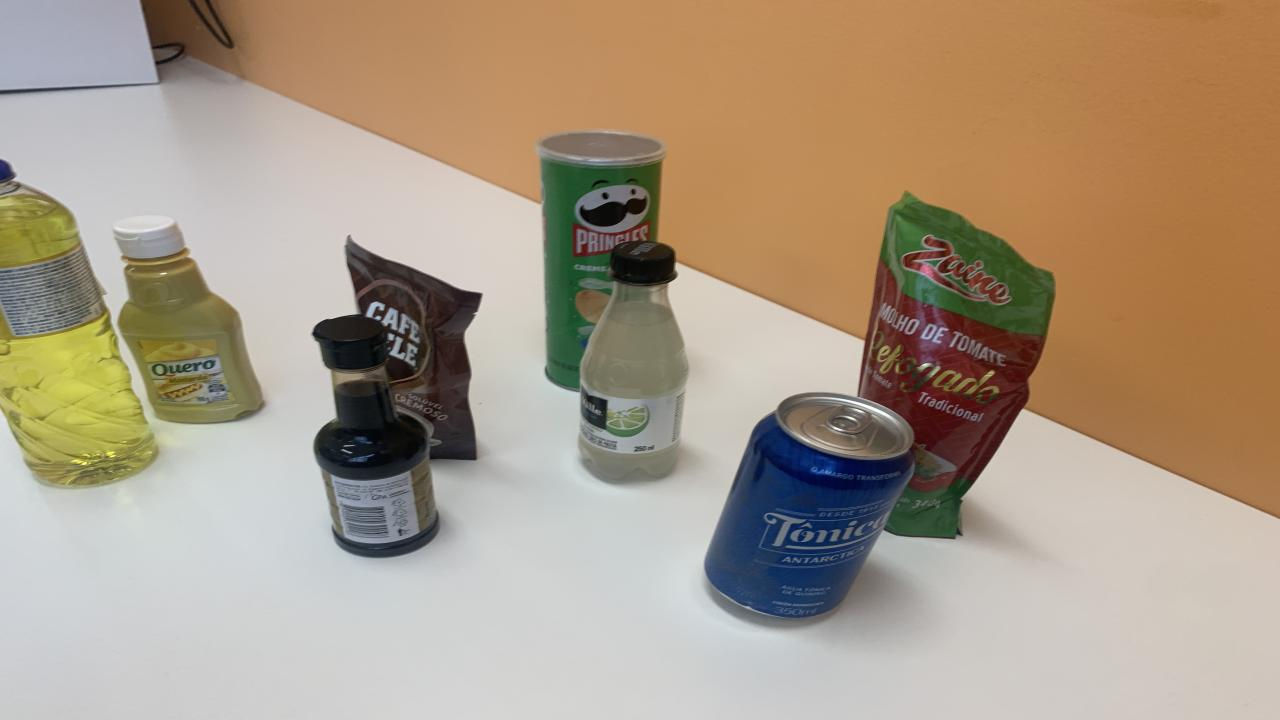Coffee-Pantry_Items: (345, 236, 482, 459)
Detergent-Cleanup_Items: (0, 161, 158, 486)
English_Sauce-Pantry_Items: (312, 315, 440, 557)
Mustard-Pantry_Items: (112, 216, 262, 424)
Pringles-Snacks: (535, 129, 665, 390)
Soda-Drinks: (580, 240, 688, 480)
Tomato_Sauce-Pantry_Items: (860, 193, 1055, 538)
Tonic-Drinks: (705, 392, 915, 617)
